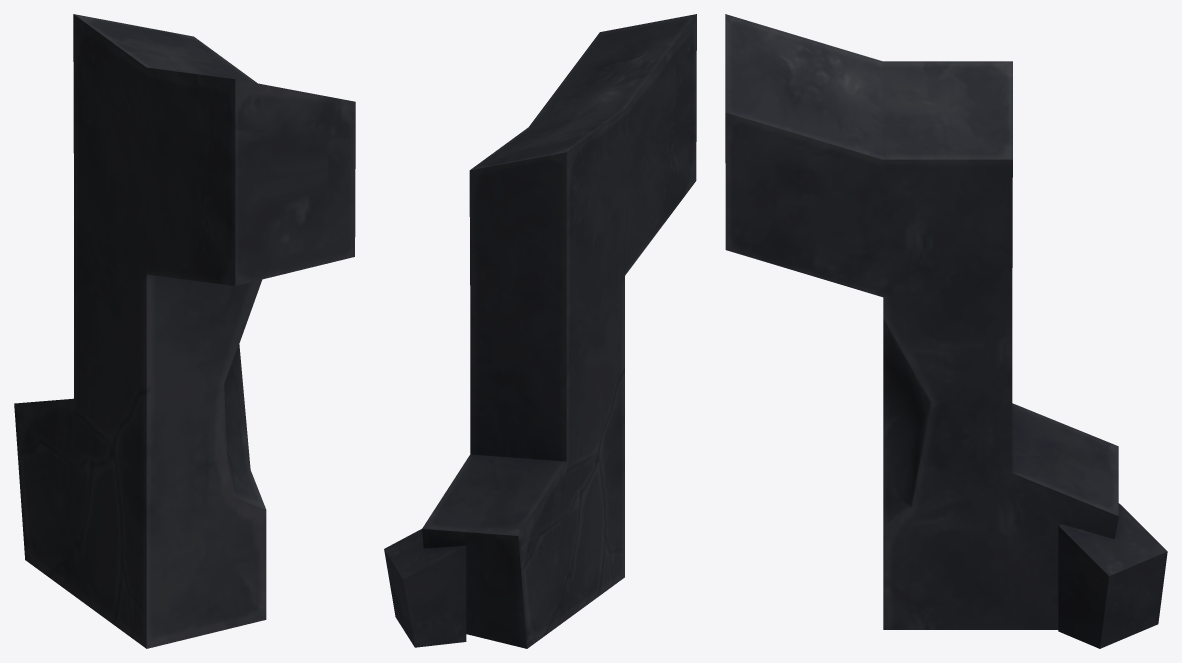
Rendered from Ruins4.FBX.
3 views of the same model, side by side, from view 1: azimuth 30°, elevation 25°; view 2: azimuth 150°, elevation 25°; view 3: azimuth 270°, elevation 25° (orthographic). The views are drawn at different scales.
Visible parts, largest first — view 1: Ruins4; view 2: Ruins4; view 3: Ruins4.
Boxes of the visible parts, box(x1,y1,x2,y2) form: Ruins4: box(14, 14, 355, 648); Ruins4: box(384, 14, 696, 648); Ruins4: box(725, 14, 1167, 648).
Bounding box in the file's own units: 381 × 1337 × 950.
Materials: 1 (1 with a texture image).
